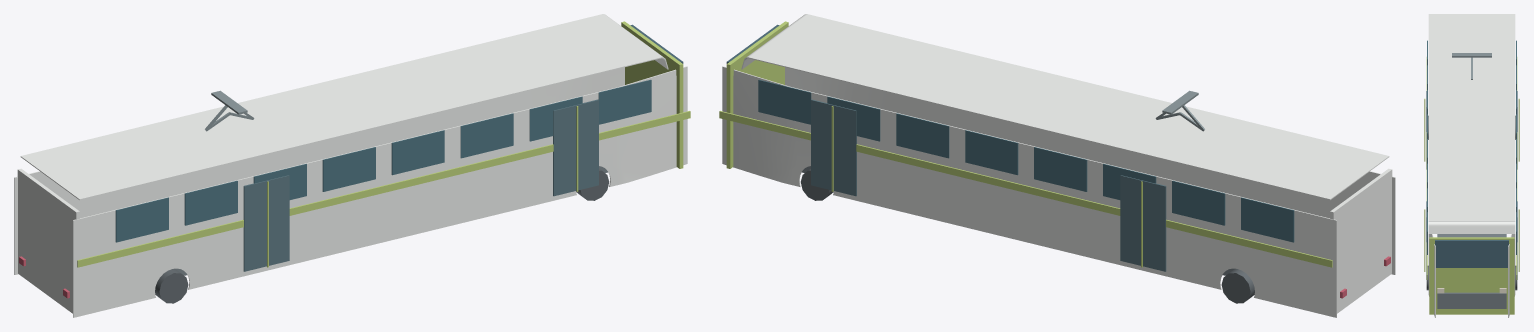
The picture shows the model from 3 angles, left to right: view 1: azimuth 30°, elevation 25°; view 2: azimuth 150°, elevation 25°; view 3: azimuth 270°, elevation 25°; orthographic projection. The views are drawn at different scales.
Visible parts, largest first — view 1: formed_side_right, formed_roof, formed_side_left, rear_bulkhead, waist_band_right, door_right_0, door_right_1, front_bulkhead, window_right_1, window_right_4, window_right_0, window_right_3 (+6 smaller); view 2: formed_side_left, formed_roof, formed_side_right, rear_bulkhead, waist_band_left, door_left_0, door_left_1, front_bulkhead, window_left_1, window_left_4, window_left_0, window_left_3 (+6 smaller); view 3: formed_roof, front_bulkhead, front_windshield, interior_floor, roof_nose_fold, formed_side_left, formed_side_right, pantograph_contact, waist_band_left, waist_band_right, door_split_left_1, door_split_right_1 (+2 smaller).
Part boxes in pixels (x1=…): formed_side_right: x1=73, y1=66, x2=687, y2=317; formed_roof: x1=20, y1=14, x2=660, y2=200; formed_side_left: x1=14, y1=67, x2=624, y2=274; rear_bulkhead: x1=17, y1=168, x2=79, y2=313; waist_band_right: x1=77, y1=111, x2=690, y2=267; door_right_0: x1=553, y1=99, x2=598, y2=196; door_right_1: x1=243, y1=175, x2=289, y2=271; front_bulkhead: x1=621, y1=21, x2=683, y2=168; window_right_1: x1=184, y1=180, x2=237, y2=225; window_right_4: x1=391, y1=130, x2=444, y2=175; window_right_0: x1=115, y1=197, x2=168, y2=242; window_right_3: x1=322, y1=147, x2=375, y2=191; formed_side_left: x1=722, y1=66, x2=1336, y2=317; formed_roof: x1=748, y1=14, x2=1389, y2=200; formed_side_right: x1=785, y1=67, x2=1395, y2=274; rear_bulkhead: x1=1330, y1=168, x2=1392, y2=313; waist_band_left: x1=719, y1=111, x2=1332, y2=267; door_left_0: x1=811, y1=99, x2=856, y2=196; door_left_1: x1=1120, y1=175, x2=1166, y2=271; front_bulkhead: x1=726, y1=21, x2=788, y2=168; window_left_1: x1=1172, y1=180, x2=1225, y2=225; window_left_4: x1=965, y1=130, x2=1018, y2=175; window_left_0: x1=1241, y1=197, x2=1294, y2=242; window_left_3: x1=1034, y1=147, x2=1087, y2=191; formed_roof: x1=1428, y1=14, x2=1515, y2=221; front_bulkhead: x1=1429, y1=237, x2=1514, y2=314; front_windshield: x1=1435, y1=240, x2=1508, y2=267; interior_floor: x1=1437, y1=234, x2=1506, y2=308; roof_nose_fold: x1=1428, y1=221, x2=1515, y2=233; formed_side_left: x1=1508, y1=234, x2=1515, y2=317; formed_side_right: x1=1428, y1=234, x2=1435, y2=317; pantograph_contact: x1=1452, y1=53, x2=1491, y2=57; waist_band_left: x1=1516, y1=57, x2=1517, y2=279; waist_band_right: x1=1426, y1=57, x2=1427, y2=279; door_split_left_1: x1=1518, y1=98, x2=1519, y2=161; door_split_right_1: x1=1424, y1=98, x2=1425, y2=161.
Bounding box in the file's own units: 17.01 × 4.14 × 3.09.
